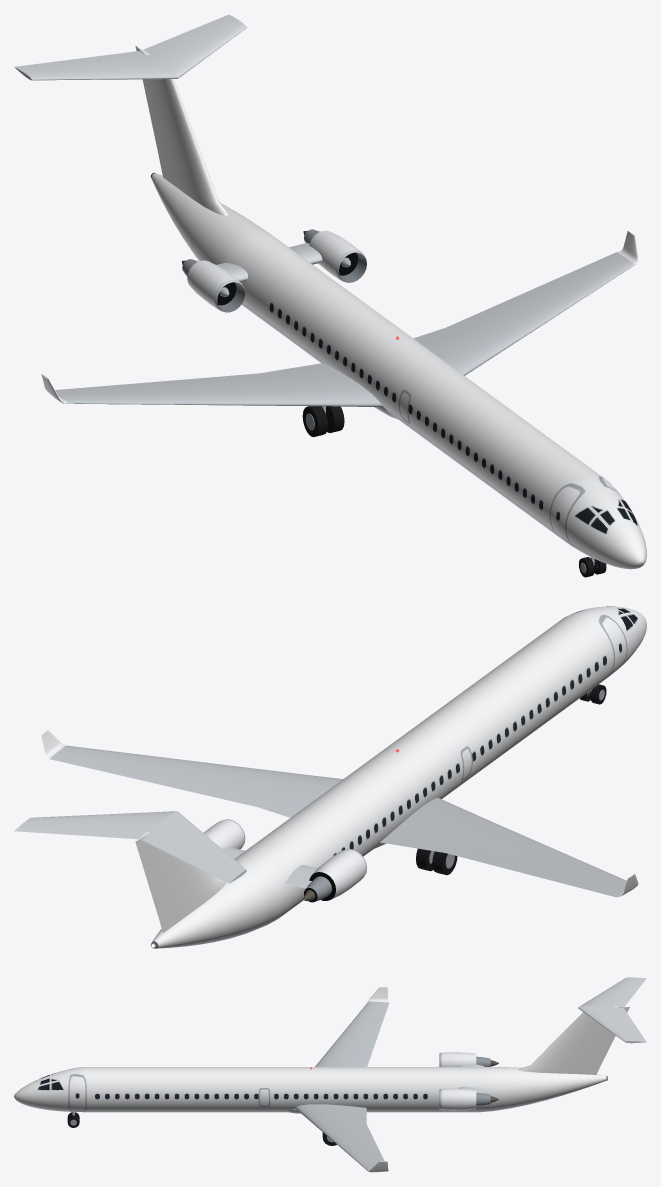
3 views of the same model, one above another, from view 1: azimuth 30°, elevation 25°; view 2: azimuth 150°, elevation 25°; view 3: azimuth 270°, elevation 25° (orthographic). The views are drawn at different scales.
Parts seen in each view (by area): view 1: body, gear; view 2: body, gear; view 3: body.
Boxes of the visible parts, bbox=[...] form: body: bbox=[14, 14, 646, 569]; gear: bbox=[302, 406, 606, 577]; body: bbox=[14, 606, 646, 948]; gear: bbox=[416, 684, 606, 875]; body: bbox=[14, 977, 646, 1172].
Bounding box in the file's own units: 20.76 × 6.64 × 31.84.
19 materials, 1 textured.
